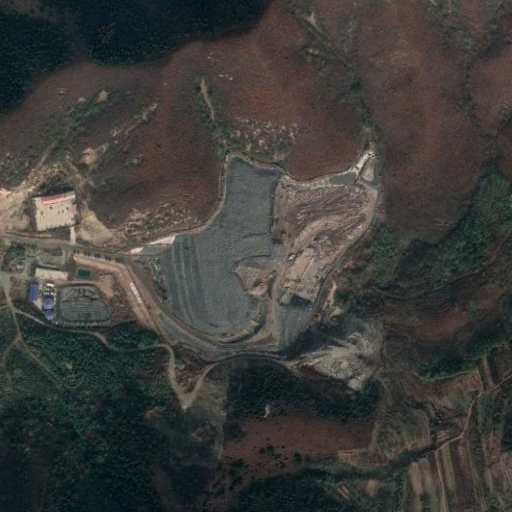lf: (132, 155, 384, 366)
